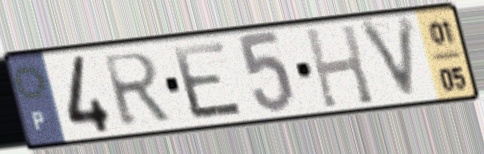4: (65, 52, 116, 136)
5: (233, 28, 298, 118)
E: (168, 38, 248, 123)
H: (301, 22, 378, 111)
R: (99, 49, 174, 131)
V: (354, 11, 421, 105)
